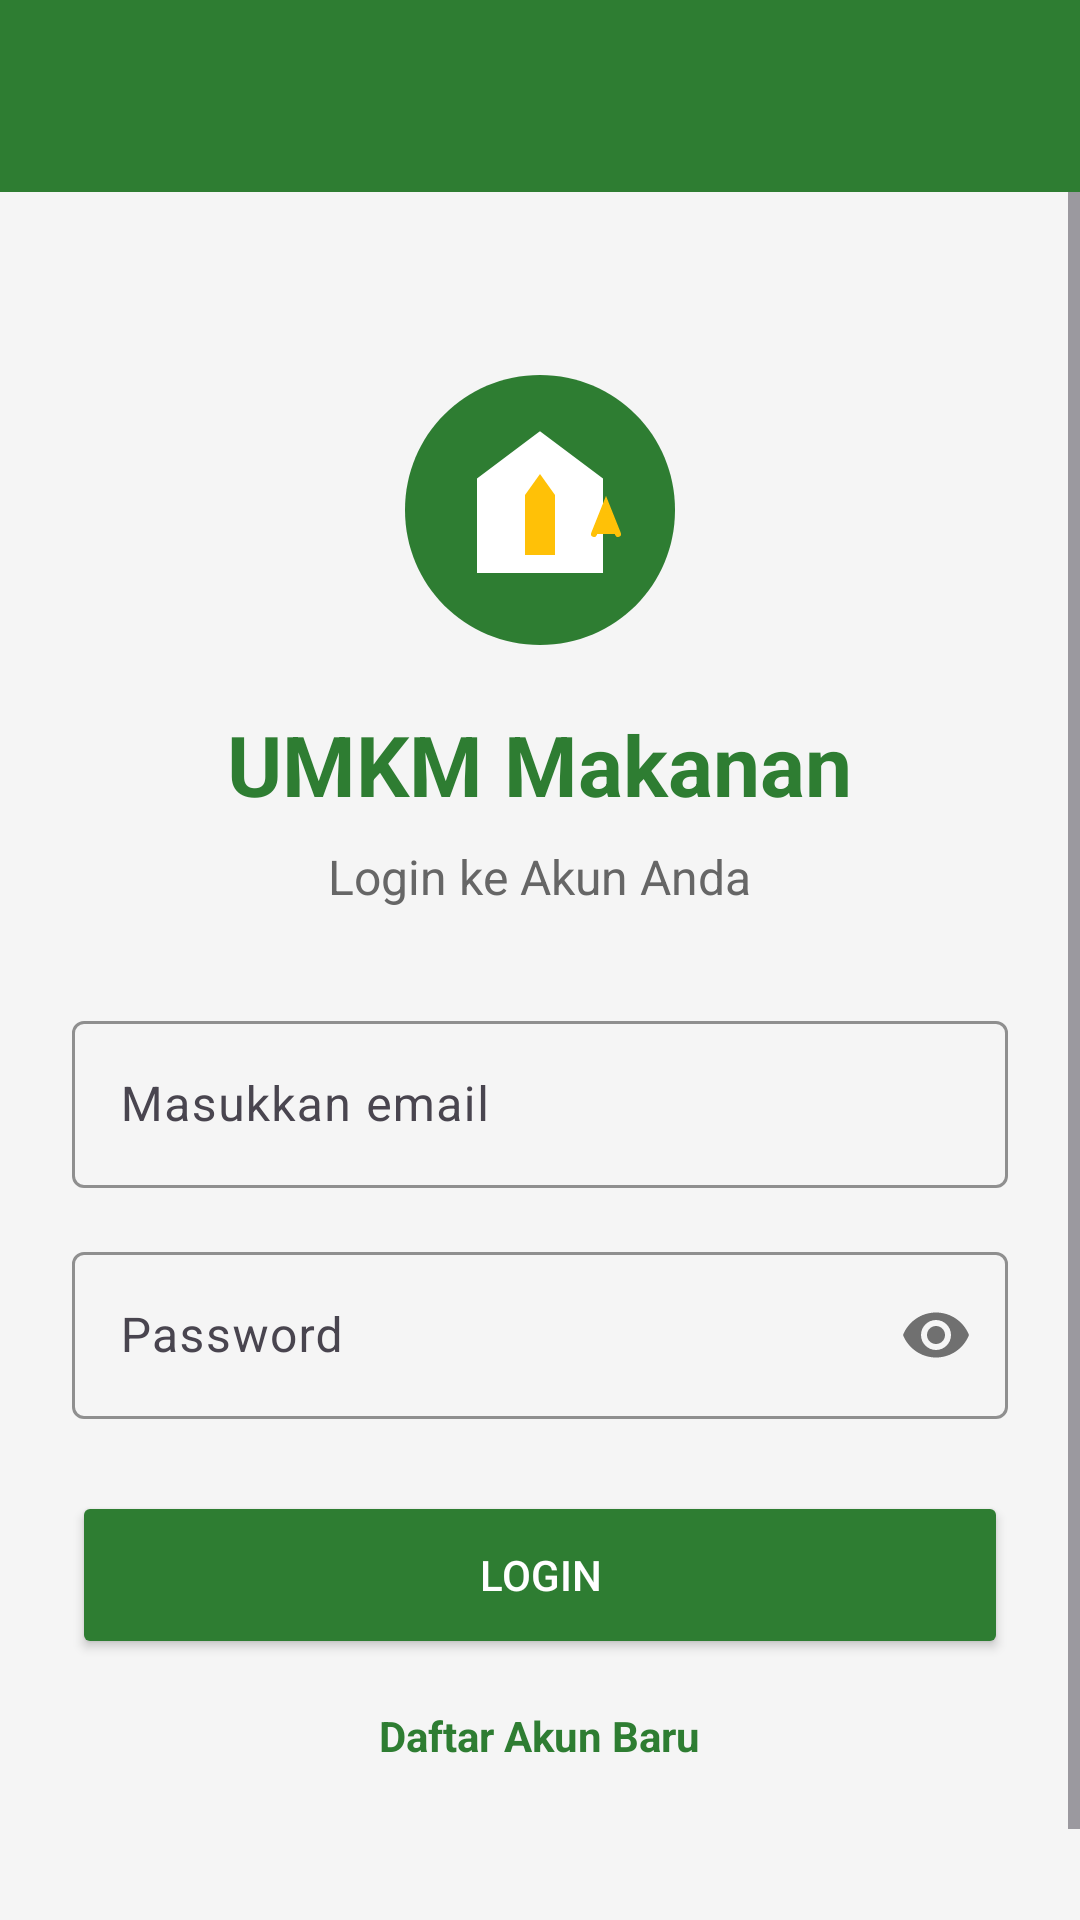

Locate icon controls on the screen. Image size 1080px×1920px, boxes as (x1, y1, x2, y2).
bina desa: (405, 375, 675, 645)
